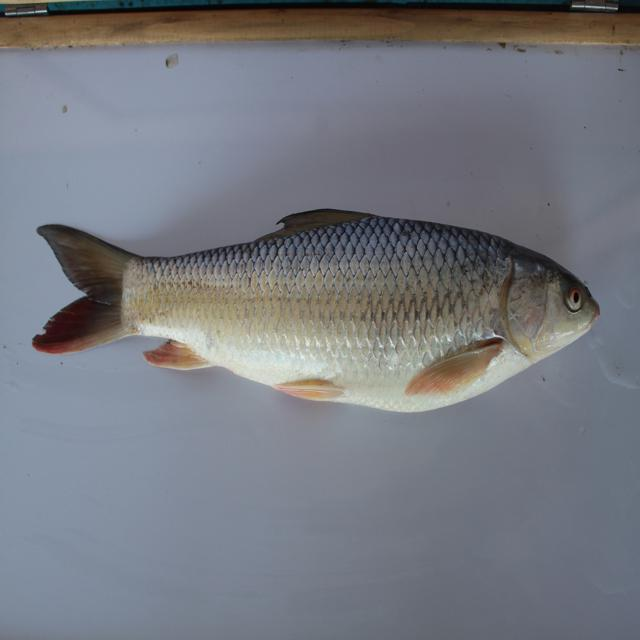Grass Carp: (31, 203, 595, 416)
